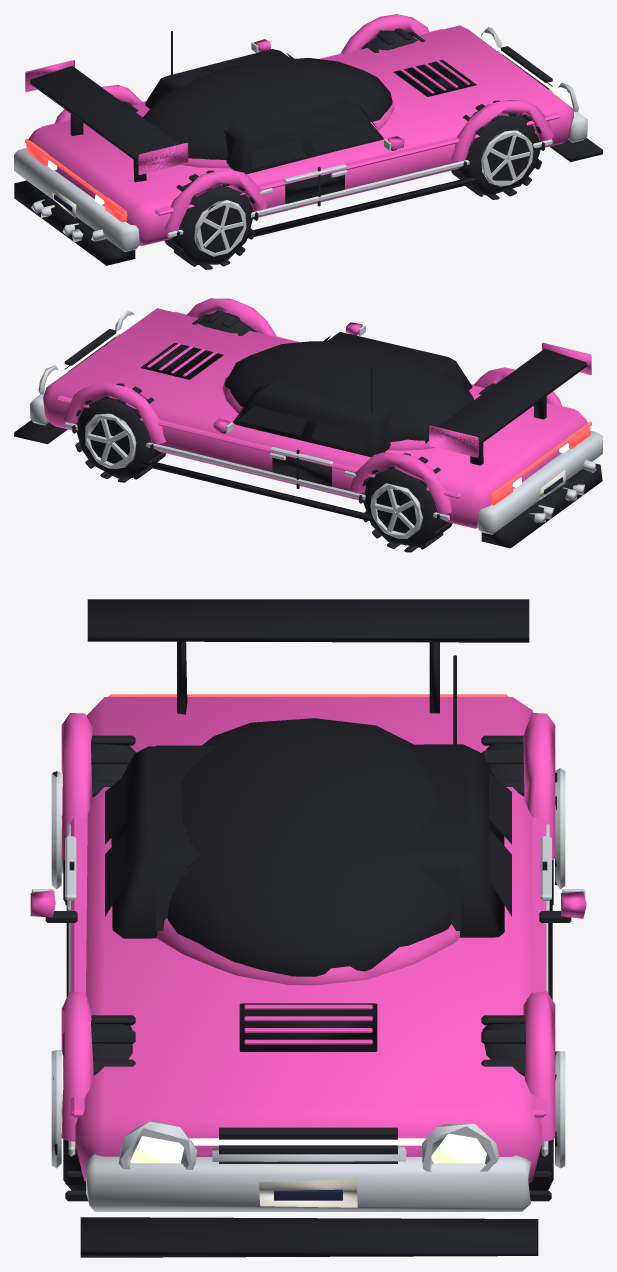
File: supercar.glb
3 renders of one model, top to bottom at view 1: azimuth 30°, elevation 25°; view 2: azimuth 150°, elevation 25°; view 3: azimuth 270°, elevation 25°, orthographic. The views are drawn at different scales.
Visible parts, largest first — view 1: supercar; view 2: supercar; view 3: supercar.
Part boxes in pixels (x1=…): supercar: x1=14, y1=14, x2=602, y2=269; supercar: x1=14, y1=298, x2=602, y2=552; supercar: x1=30, y1=599, x2=586, y2=1257.
Bounding box in the file's own units: 4.95 × 1.47 × 2.42.
1 material, 1 textured.
